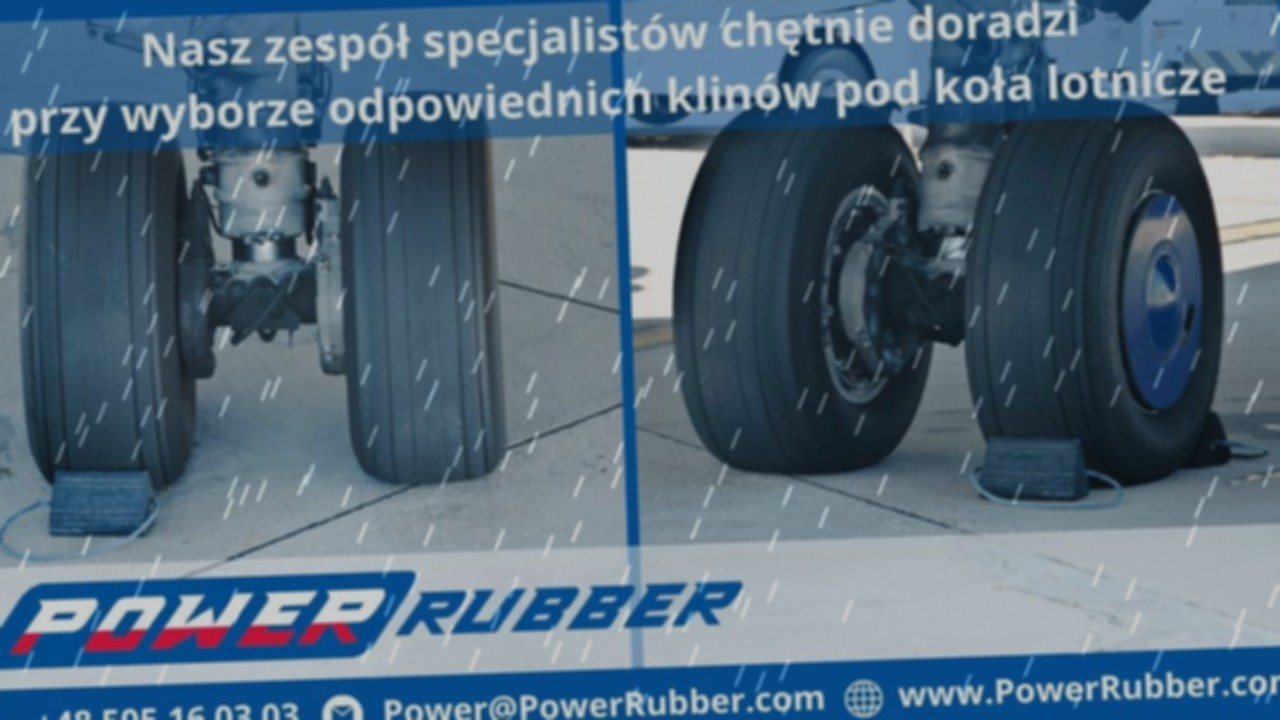chock: (43, 461, 162, 547), (975, 430, 1093, 508), (1179, 409, 1241, 472)
wheel: (956, 106, 1231, 491), (665, 108, 936, 479), (8, 99, 201, 497), (331, 92, 510, 487), (774, 34, 883, 117)
